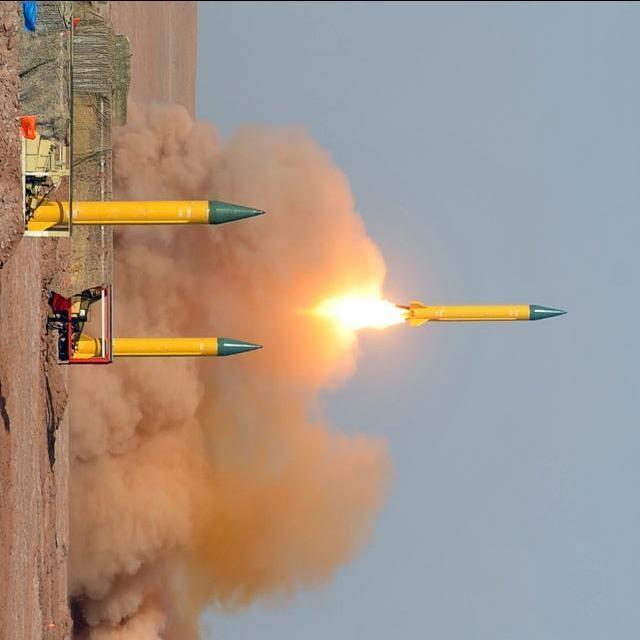Missile: (30, 194, 265, 233), (58, 327, 257, 364), (399, 292, 576, 333)
